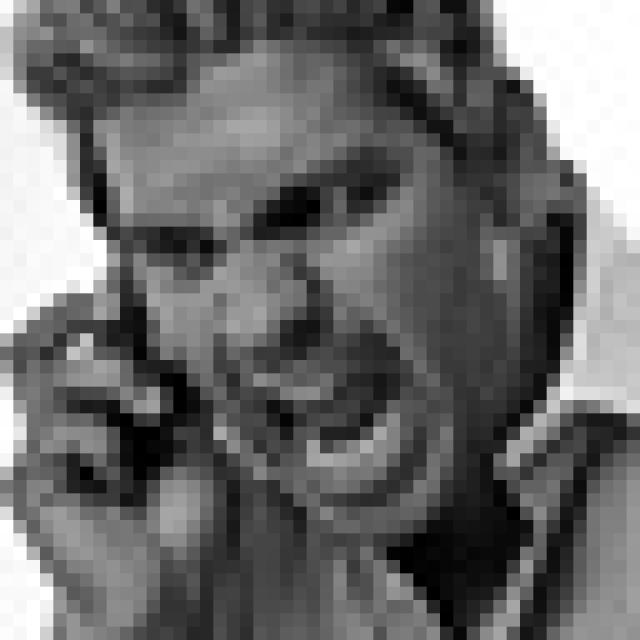angry: (124, 137, 426, 502)
